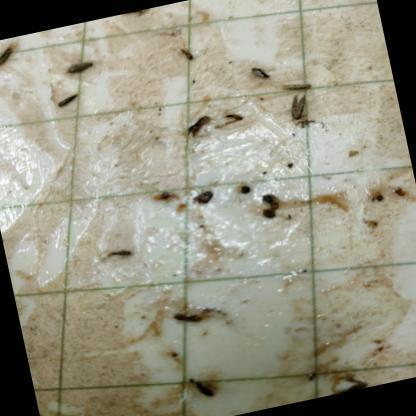prays_oleae: (173, 28, 198, 75), (282, 91, 312, 125), (0, 41, 27, 75), (246, 58, 272, 86)
